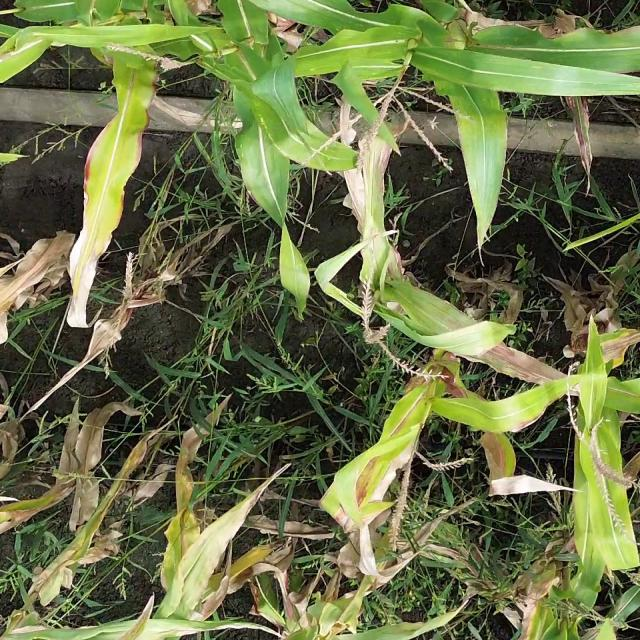northern-leaf-blight: (1, 27, 58, 79), (595, 317, 640, 372)
